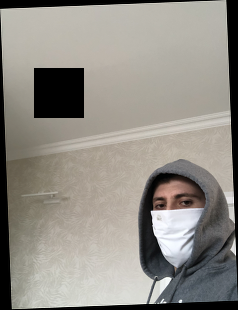with_mask: (151, 188, 207, 269)
